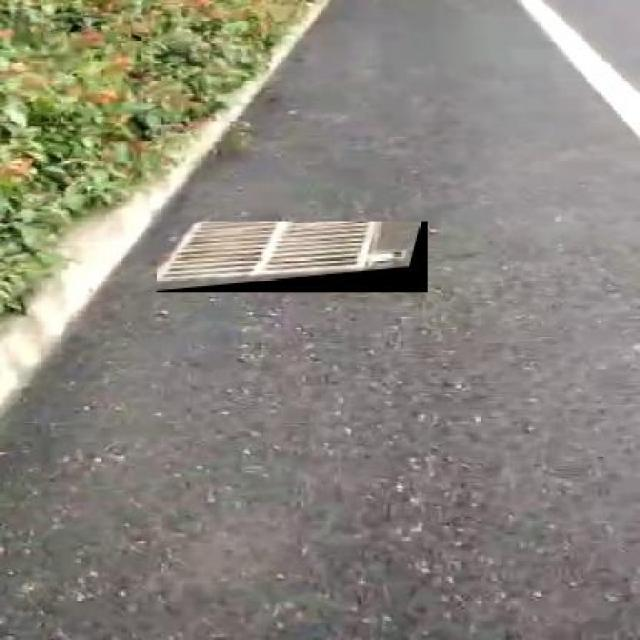Manhole: (157, 222, 428, 292)
